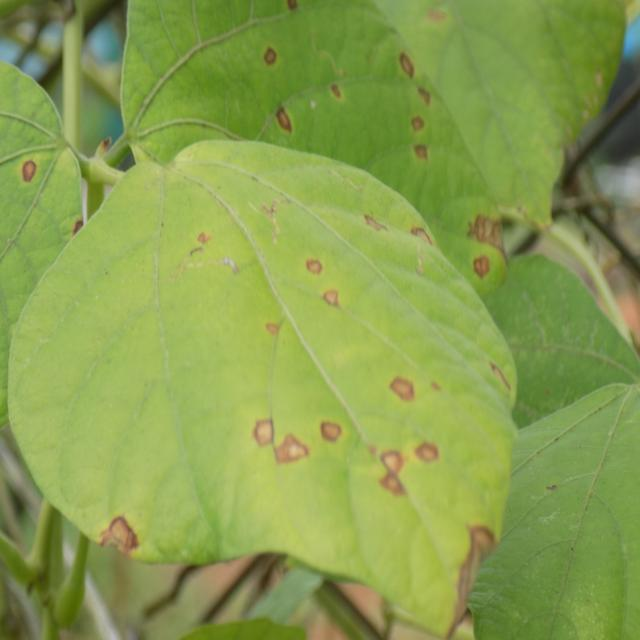Dolicos bean_cercospora leaf spot: (5, 134, 520, 640), (121, 0, 512, 316)
Dolicos bean_healthy: (460, 379, 640, 640)
